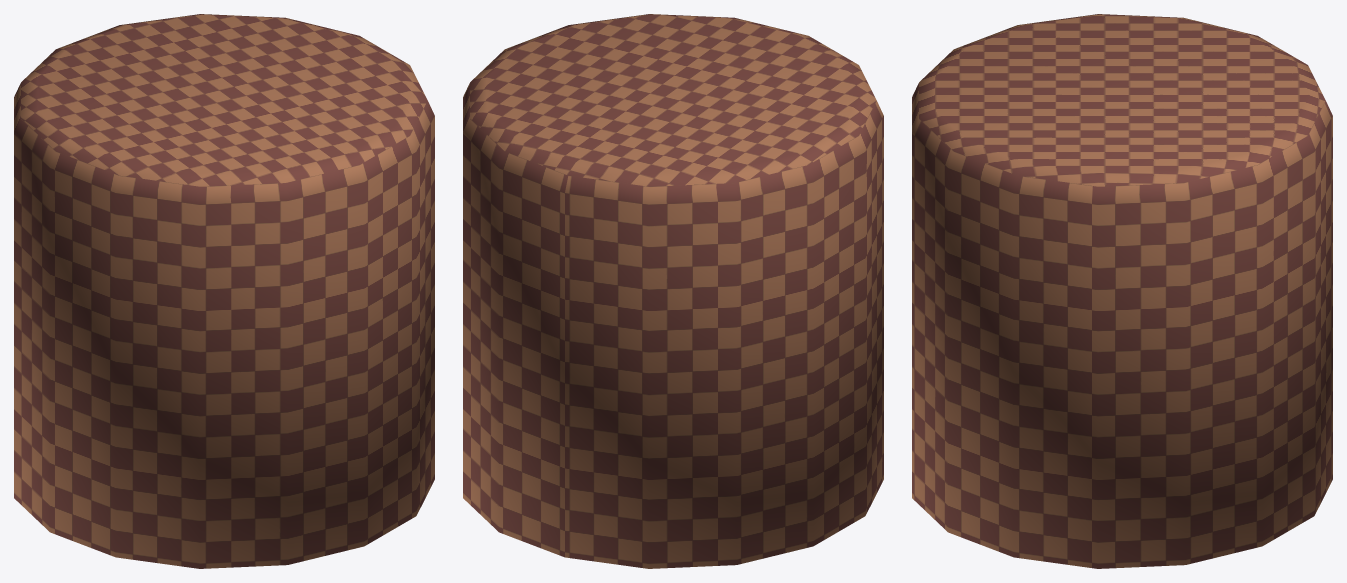
Rendered from terrainDirtcylinder.fbx.
3 views of the same model, side by side, from view 1: azimuth 30°, elevation 25°; view 2: azimuth 150°, elevation 25°; view 3: azimuth 270°, elevation 25° (orthographic).
Parts seen in each view (by area): view 1: Cylinder; view 2: Cylinder; view 3: Cylinder.
Boxes of the visible parts, x1=… form: Cylinder: x1=14, y1=14, x2=434, y2=568; Cylinder: x1=463, y1=14, x2=883, y2=568; Cylinder: x1=912, y1=14, x2=1332, y2=568.
Size of the model in its own units: 199 by 200 by 198.
1 material, 1 textured.
